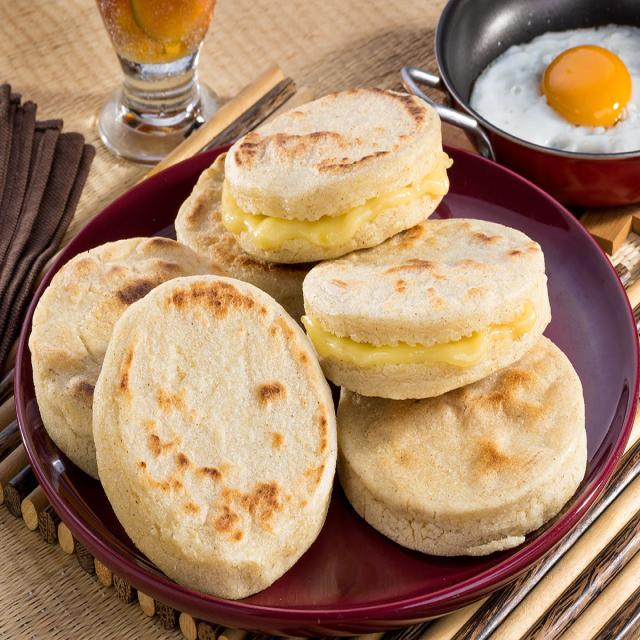arepa: (89, 268, 348, 606)
huevos: (463, 18, 640, 164)
